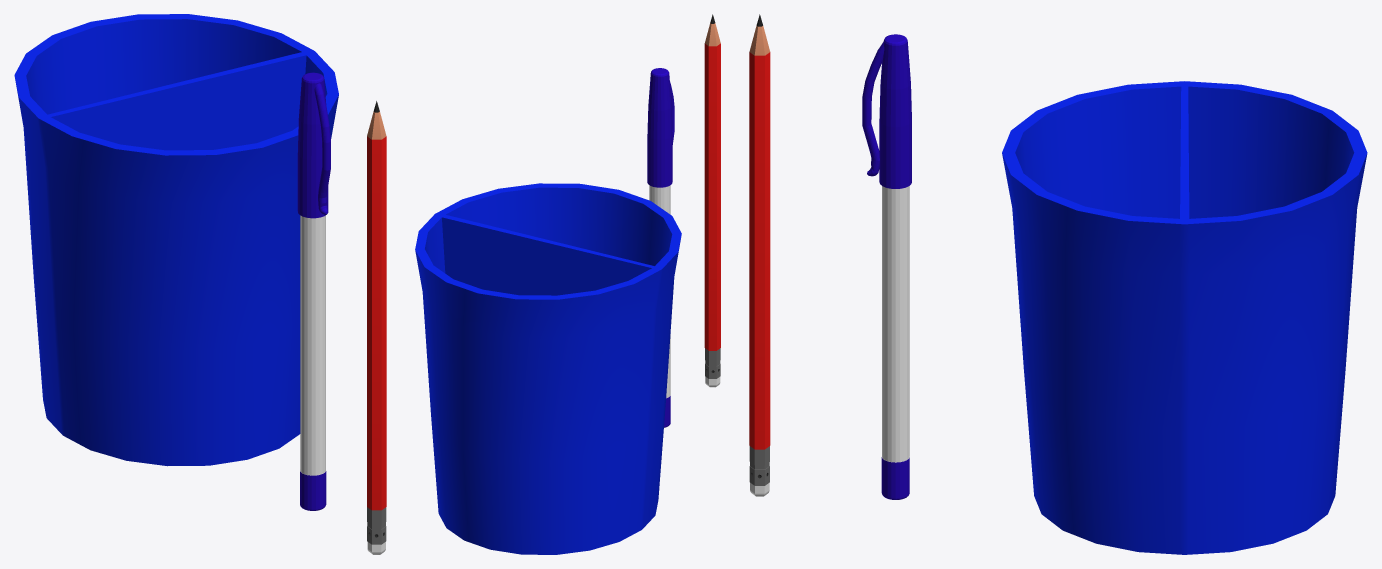
File: pencil.glb
3 views of the same model, side by side, from view 1: azimuth 30°, elevation 25°; view 2: azimuth 150°, elevation 25°; view 3: azimuth 270°, elevation 25° (orthographic). The views are drawn at different scales.
Visible parts, largest first — view 1: Cylinder.001, Cylinder.002, Cylinder; view 2: Cylinder.001, Cylinder, Cylinder.002; view 3: Cylinder.001, Cylinder.002, Cylinder.
Boxes of the visible parts, box(x1,y1,x2,y2) form: Cylinder.001: box(14, 14, 338, 466); Cylinder.002: box(297, 72, 330, 510); Cylinder: box(367, 101, 386, 554); Cylinder.001: box(415, 183, 681, 554); Cylinder: box(704, 14, 720, 387); Cylinder.002: box(647, 68, 674, 427); Cylinder.001: box(1002, 81, 1367, 554); Cylinder.002: box(862, 34, 911, 499); Cylinder: box(749, 14, 770, 496).
Size of the model in its own units: 3.84 by 6.02 by 6.99.
